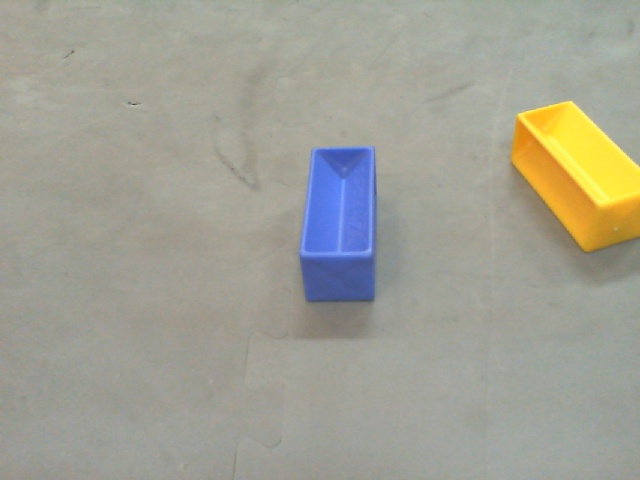BlueSample: (299, 144, 377, 302)
YellowSample: (507, 100, 640, 254)
